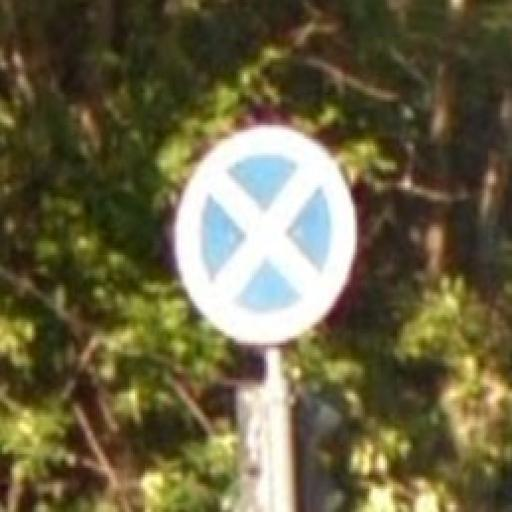traffic_sign: (174, 129, 360, 349)
